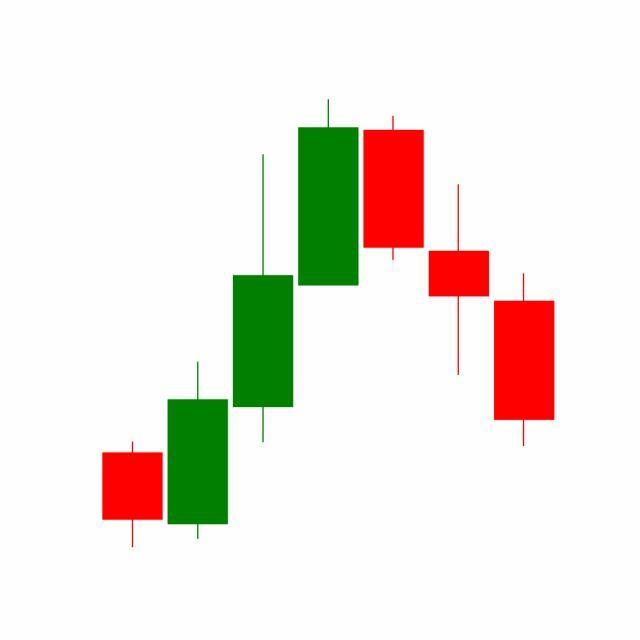Hikkake Pattern: (165, 100, 492, 545)
